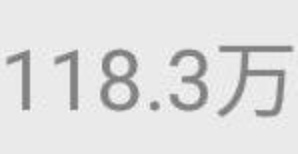TextView: (1, 1, 297, 153)
